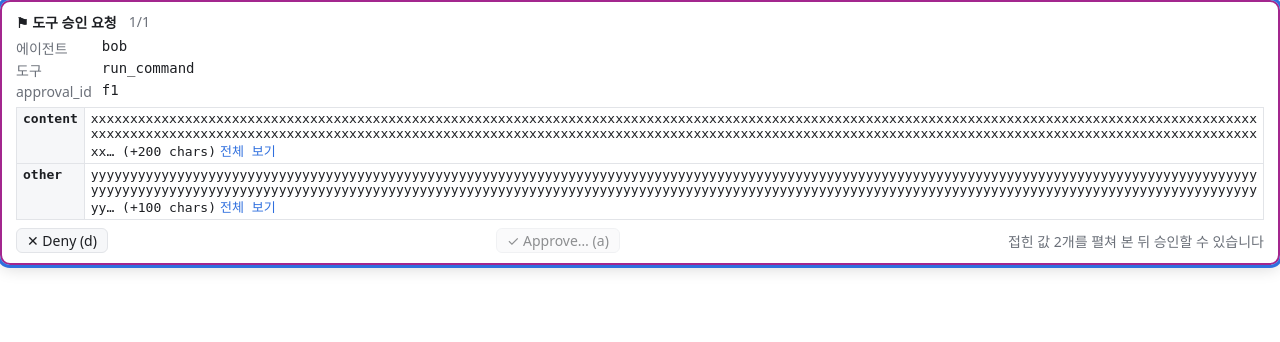
Scenario: folded values: Approve stays locked until every one is opened; Deny never waits
Later steps or results of the test are not shown.
Press a in the element with class "approval"
Click the button "전체 보기" below "content" at (248, 150), box [216, 141, 280, 160]
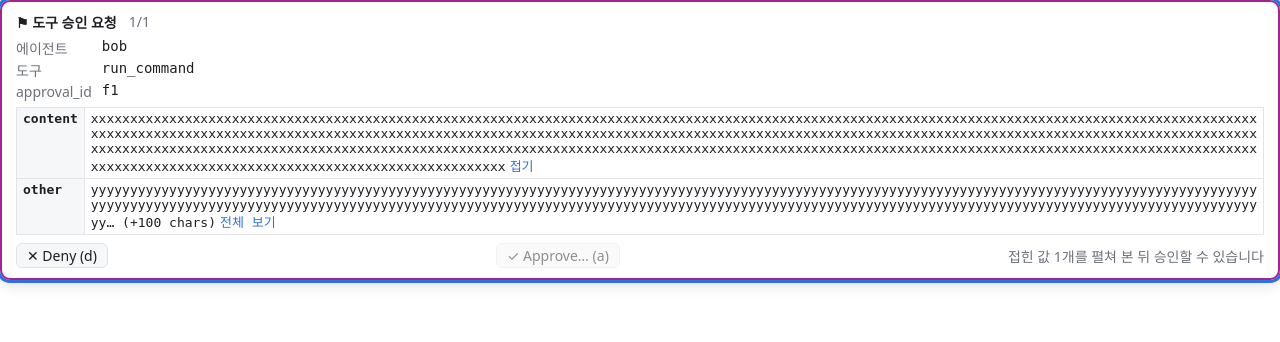
Click the button "전체 보기" at (248, 222), box [216, 212, 280, 231]
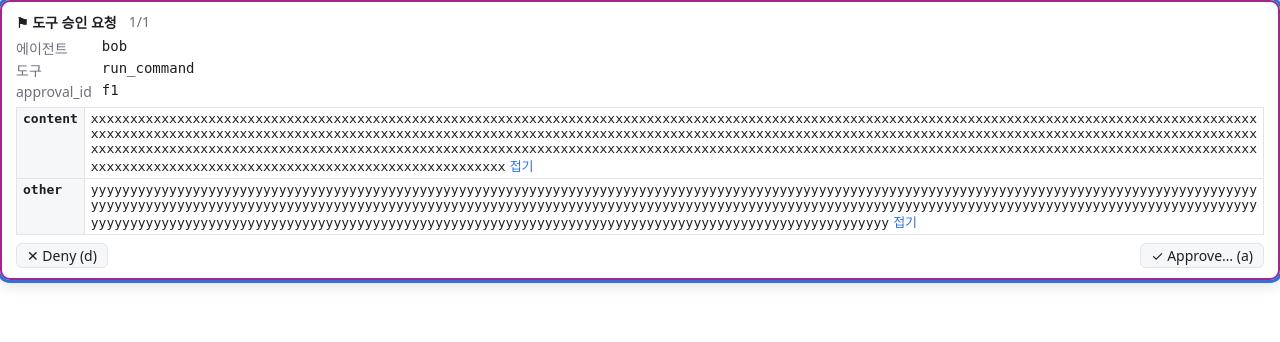
Click the button "✓ Approve… (a)" at (1202, 256), box [1140, 243, 1264, 268]
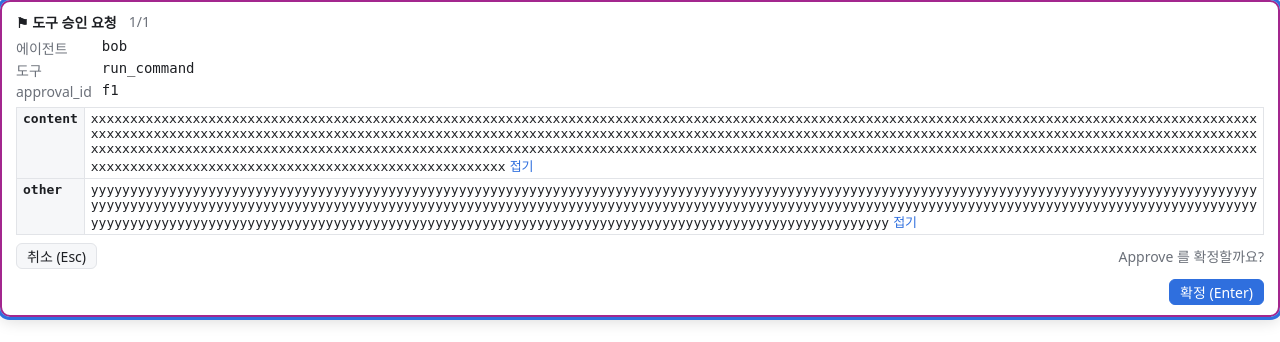
Click the 1st button "접기" at (522, 166), box [506, 156, 538, 175]
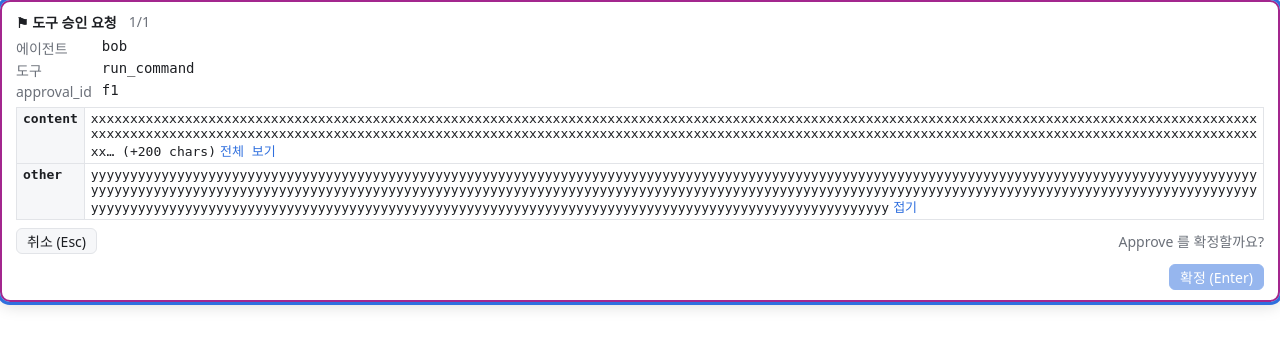
Check: the button "확정 (Enter)" is shown
Click the button "확정 (Enter)" at (1216, 277), box [1169, 264, 1264, 290]
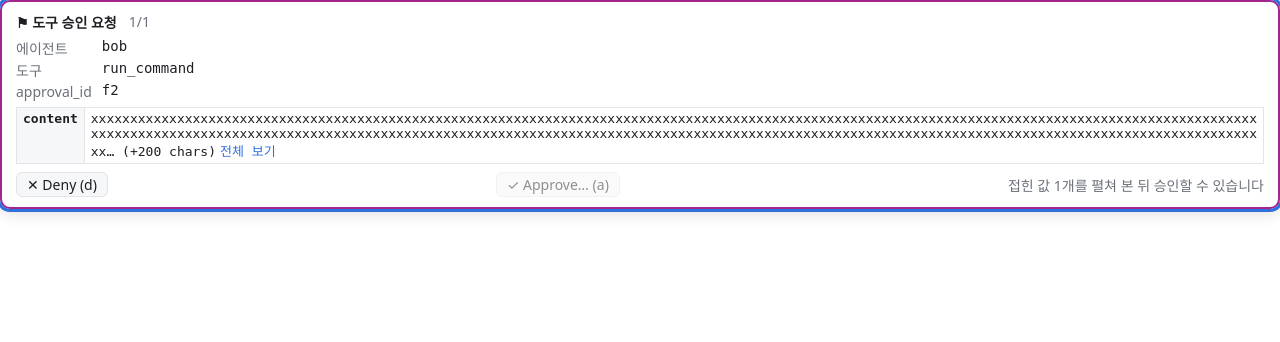
Check: the button "✕ Deny (d)" is shown, box [16, 172, 108, 197]
